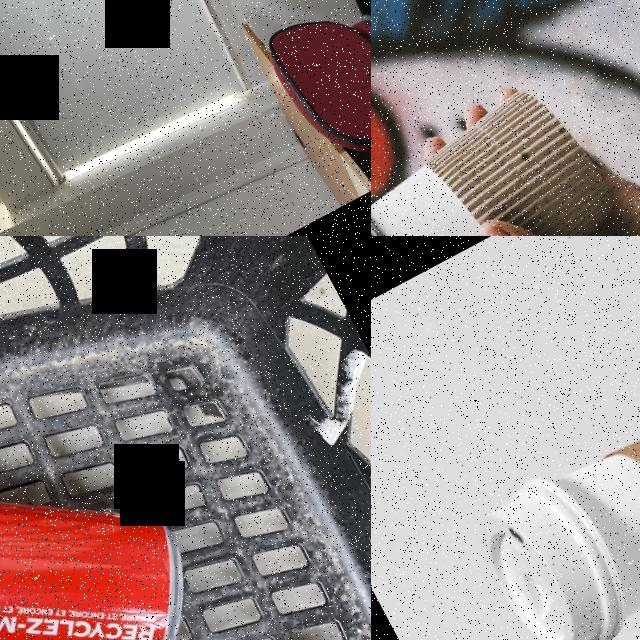can: (0, 307, 238, 640)
cup: (460, 321, 640, 640), (371, 72, 640, 236)
